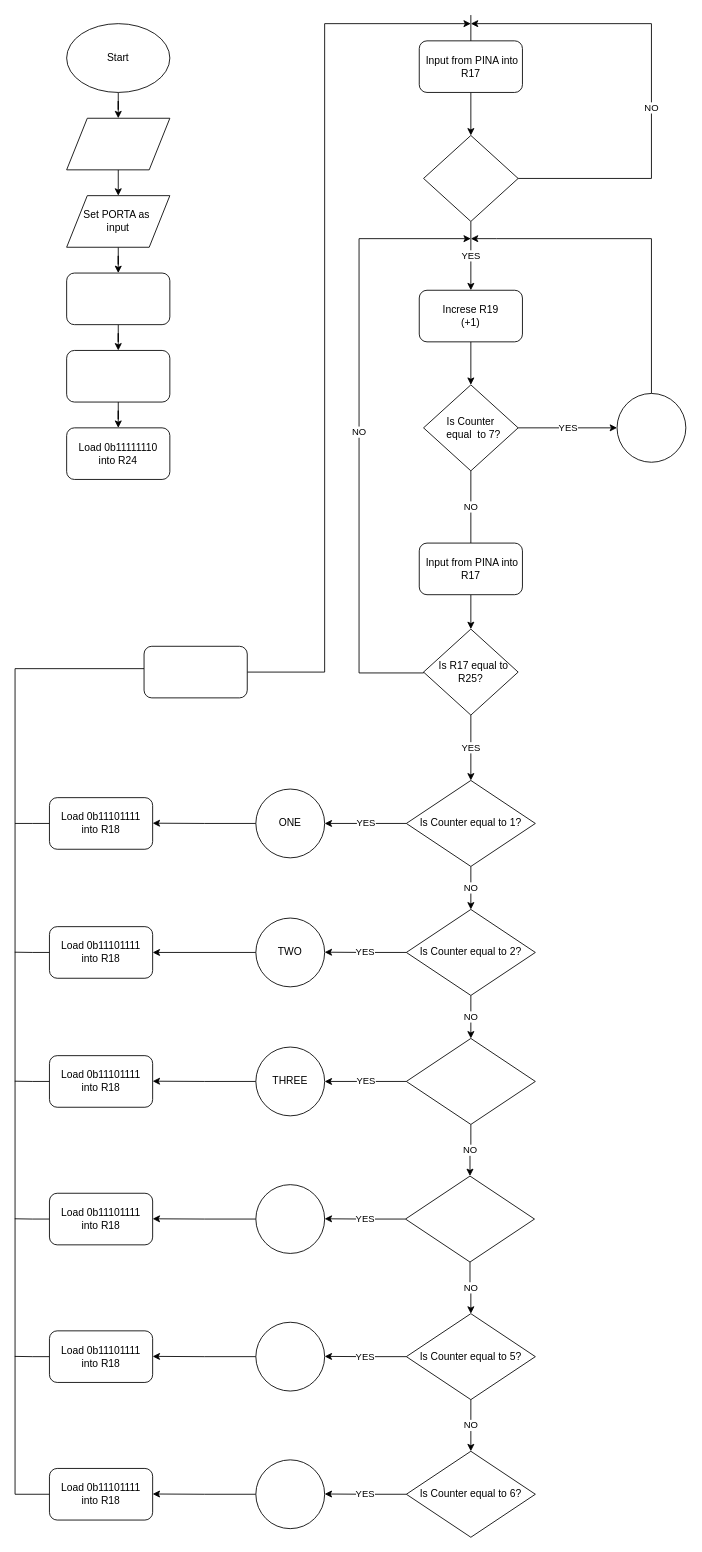
Image size: 702x1552. Some labels were removed from this diagram. Here are the shapes that lost their labels. From the top down, the box of each, then its label:
(66, 117, 170, 170): Set PORTB as output
(423, 135, 518, 221): Is R17 equal to R24?
(66, 272, 170, 325): Define R19 as Counter set at 1
(66, 350, 170, 402): Load 0xFF into R25 Output R25 to PORTB
(616, 393, 686, 462): Reset (set R19 as 1)
(143, 645, 247, 698): Output R18 to PORTB
(405, 1038, 535, 1124): Is Counter equal to 3?
(255, 1184, 325, 1253): FOUR
(405, 1175, 534, 1262): Is Counter equal to 4?
(255, 1321, 325, 1391): FIVE
(255, 1459, 325, 1529): SIX
